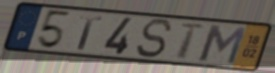4: (102, 15, 134, 56)
5: (34, 9, 74, 50)
M: (197, 23, 249, 66)
S: (134, 18, 174, 60)
T: (176, 21, 206, 61), (77, 14, 104, 52)
